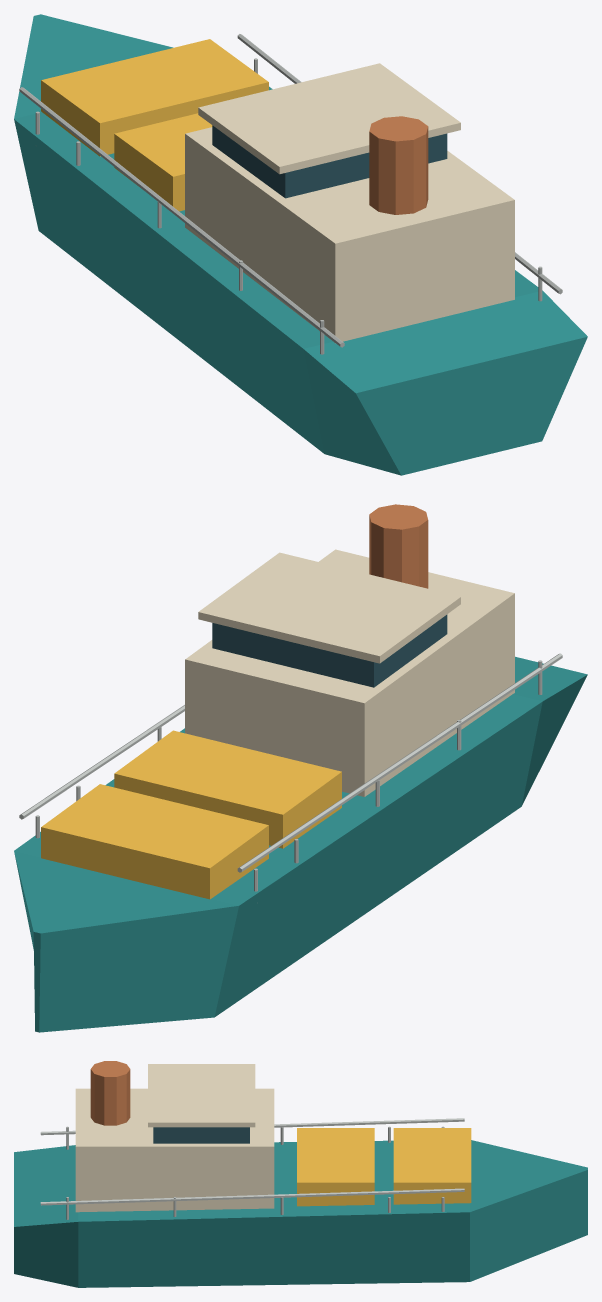
The model's file is ship.glb.
3 views of the same model, one above another, from view 1: azimuth 30°, elevation 25°; view 2: azimuth 150°, elevation 25°; view 3: azimuth 270°, elevation 25° (orthographic). The views are drawn at different scales.
Parts seen in each view (by area): view 1: Harbor hull, ShipModel traffic_cream.001, ShipModel traffic_gold, Funnel, Bridge glass, ShipModel traffic_metal; view 2: Harbor hull, ShipModel traffic_cream.001, ShipModel traffic_gold, Bridge glass, Funnel, ShipModel traffic_metal; view 3: Harbor hull, ShipModel traffic_cream.001, ShipModel traffic_gold, ShipModel traffic_metal, Funnel, Bridge glass.
Boxes of the visible parts, <box> form: Harbor hull: <box>14,14,587,475</box>; ShipModel traffic_cream.001: <box>185,63,514,343</box>; ShipModel traffic_gold: <box>41,39,268,211</box>; Funnel: <box>369,116,428,214</box>; Bridge glass: <box>212,125,447,198</box>; ShipModel traffic_metal: <box>19,34,562,354</box>; Harbor hull: <box>14,656,587,1032</box>; ShipModel traffic_cream.001: <box>185,549,514,796</box>; ShipModel traffic_gold: <box>41,730,341,899</box>; Bridge glass: <box>212,614,447,687</box>; Funnel: <box>369,504,428,588</box>; ShipModel traffic_metal: <box>19,653,562,891</box>; Harbor hull: <box>14,1140,587,1287</box>; ShipModel traffic_cream.001: <box>75,1064,274,1212</box>; ShipModel traffic_gold: <box>297,1128,471,1206</box>; ShipModel traffic_metal: <box>40,1118,464,1219</box>; Funnel: <box>90,1061,130,1125</box>; Bridge glass: <box>153,1127,249,1143</box>.
Size of the model in its own units: 3.4 by 3.85 by 10.7.
